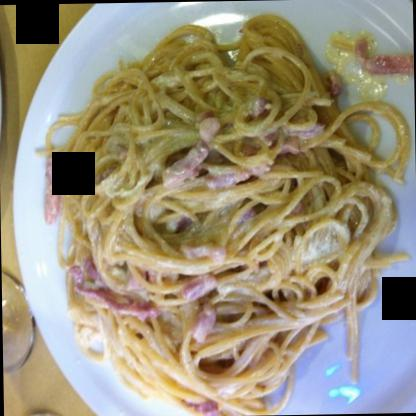pasta: (40, 26, 415, 415)
